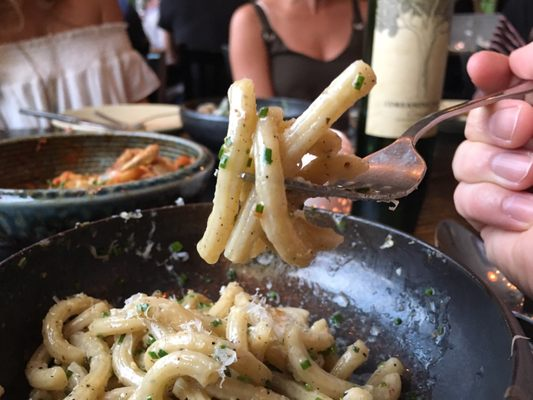pizza: (447, 12, 504, 99)
sushi: (0, 129, 216, 250), (180, 98, 230, 149)
